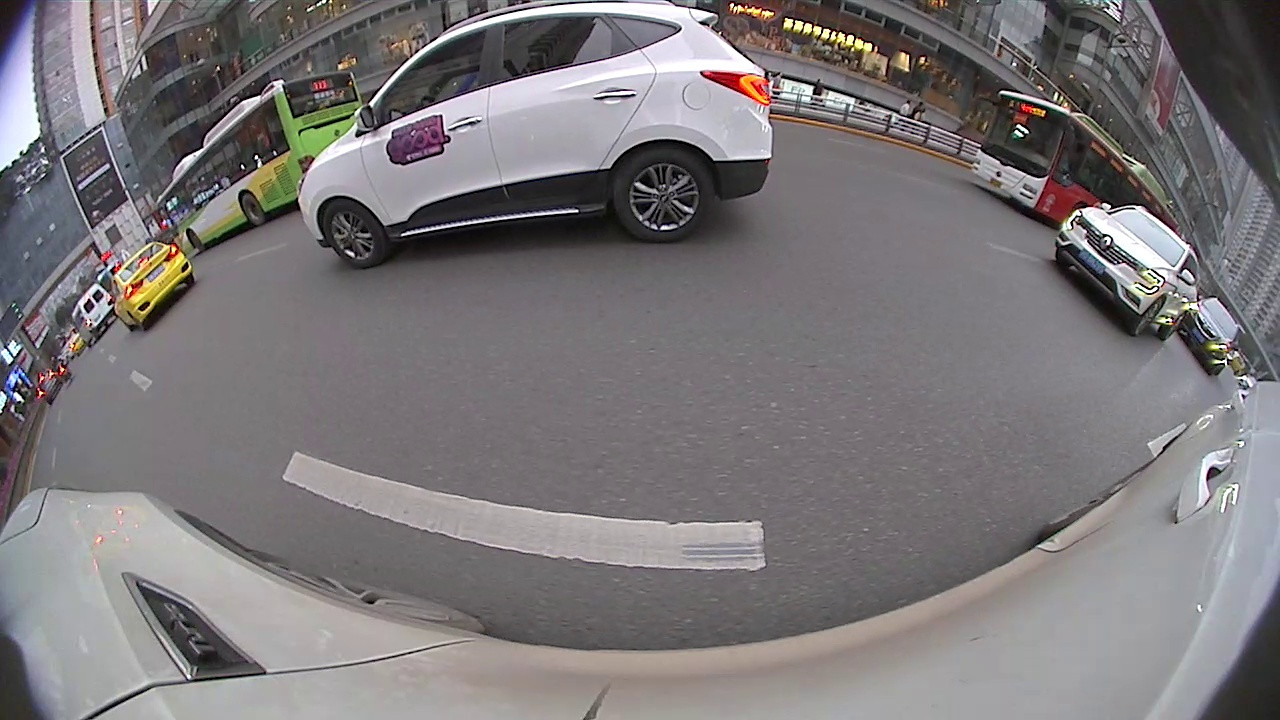bus: (161, 69, 363, 260), (970, 87, 1192, 246)
car: (293, 4, 781, 270), (1047, 206, 1206, 342), (106, 240, 194, 331), (1176, 293, 1242, 373), (73, 284, 113, 350)
front: (319, 202, 386, 268), (1126, 294, 1165, 340)
rear: (612, 151, 715, 243), (240, 192, 267, 226)
